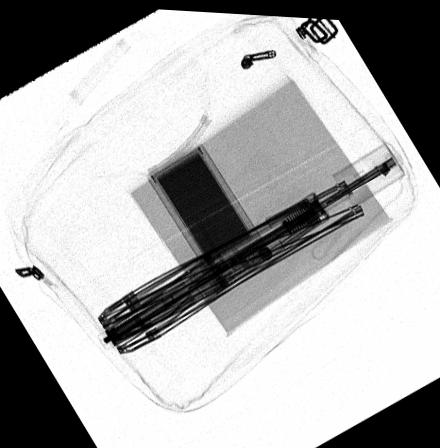Powerbank: (144, 141, 272, 290)
